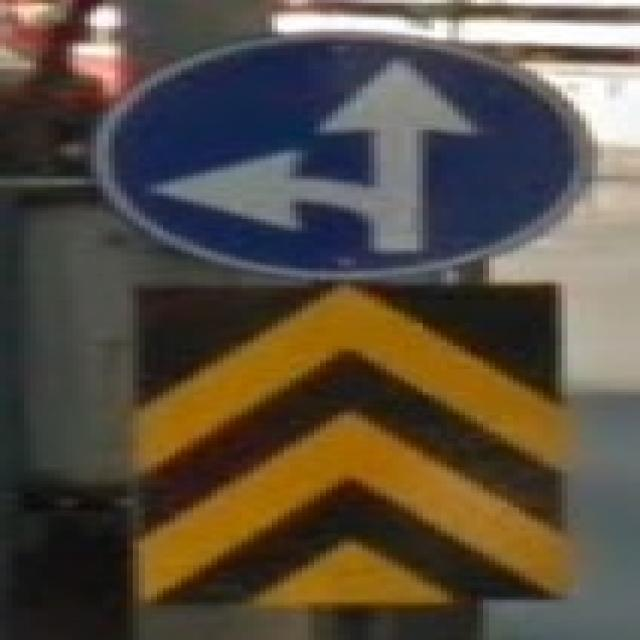Straight or Left: (89, 32, 596, 277)
